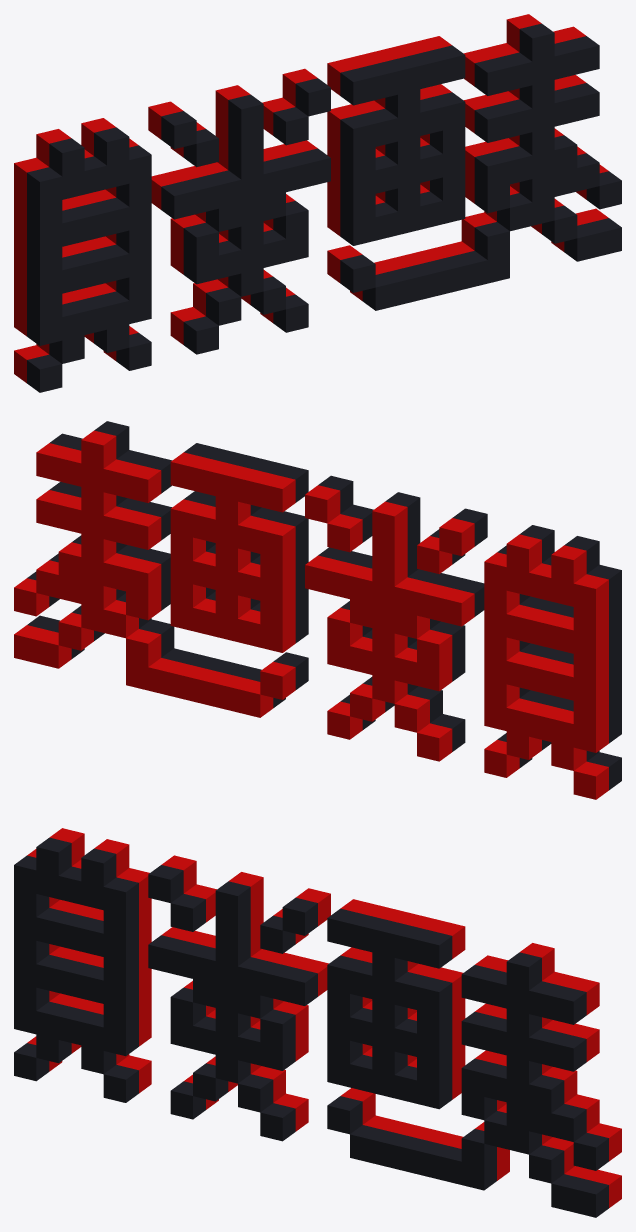
The model's file is neon.glb.
The picture shows the model from 3 angles, top to bottom: view 1: azimuth 30°, elevation 25°; view 2: azimuth 150°, elevation 25°; view 3: azimuth 330°, elevation 25°; orthographic projection.
Parts seen in each view (by area): view 1: model; view 2: model; view 3: model.
Boxes of the visible parts, box(x1,y1,x2,y2) form: model: box(14, 14, 621, 392); model: box(14, 421, 621, 799); model: box(14, 828, 621, 1217).
Size of the model in its own units: 2.6 by 1 by 0.2.
